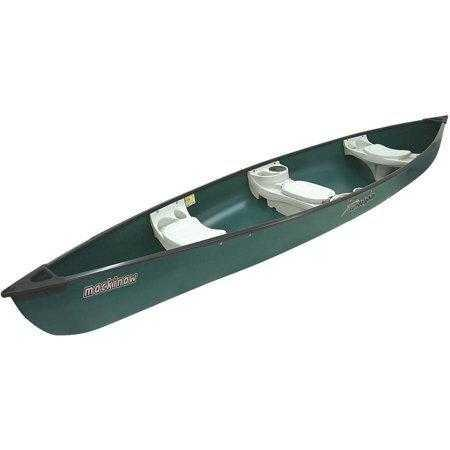kayak: (3, 122, 450, 338)
